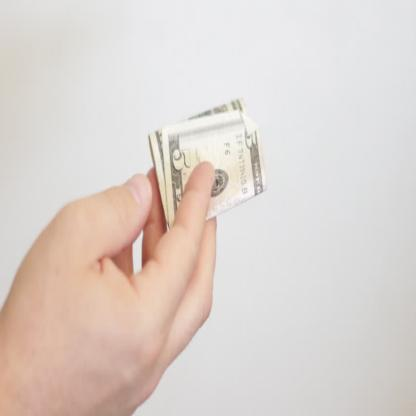billete: (148, 96, 267, 232)
